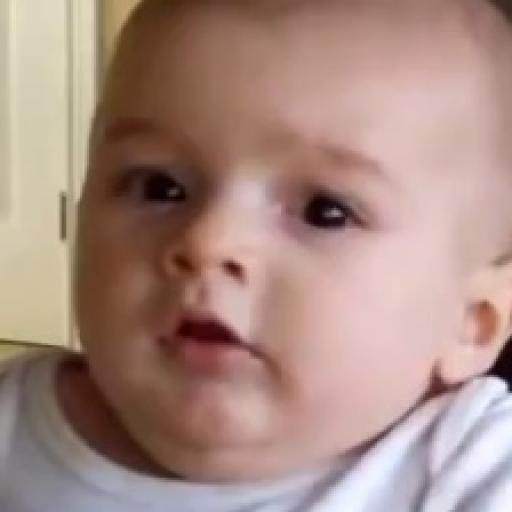Autism: (72, 13, 512, 467)
